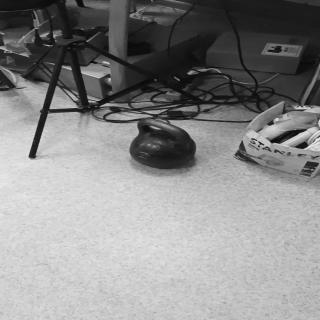girya: (132, 120, 200, 171)
